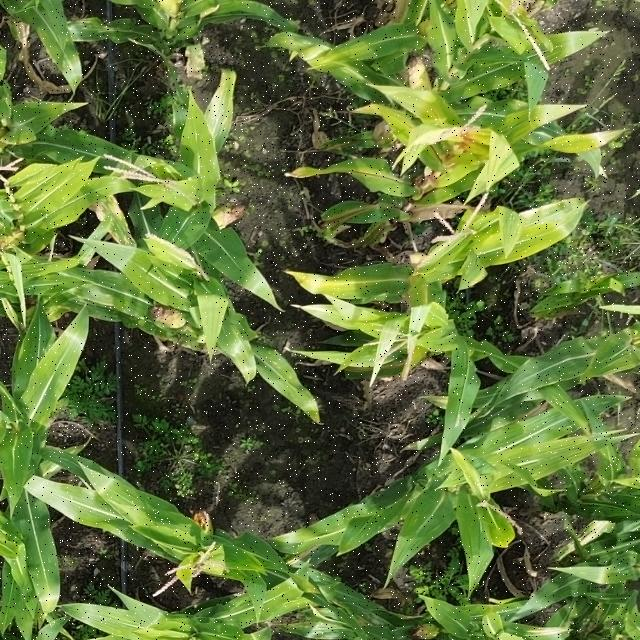gray-leaf-spot: (286, 15, 388, 93), (36, 8, 156, 58)
northern-leaf-blight: (283, 263, 381, 300)
southern-leaf-blight: (41, 279, 186, 352), (193, 74, 244, 152)
